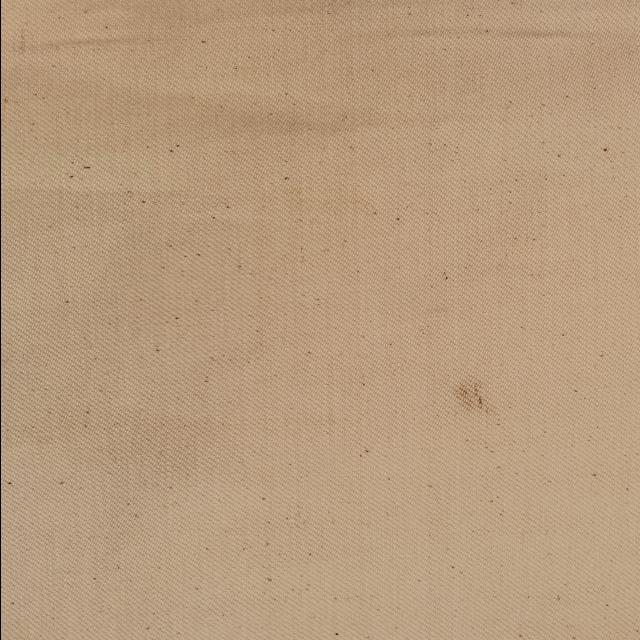taaaches: (442, 378, 500, 421)
